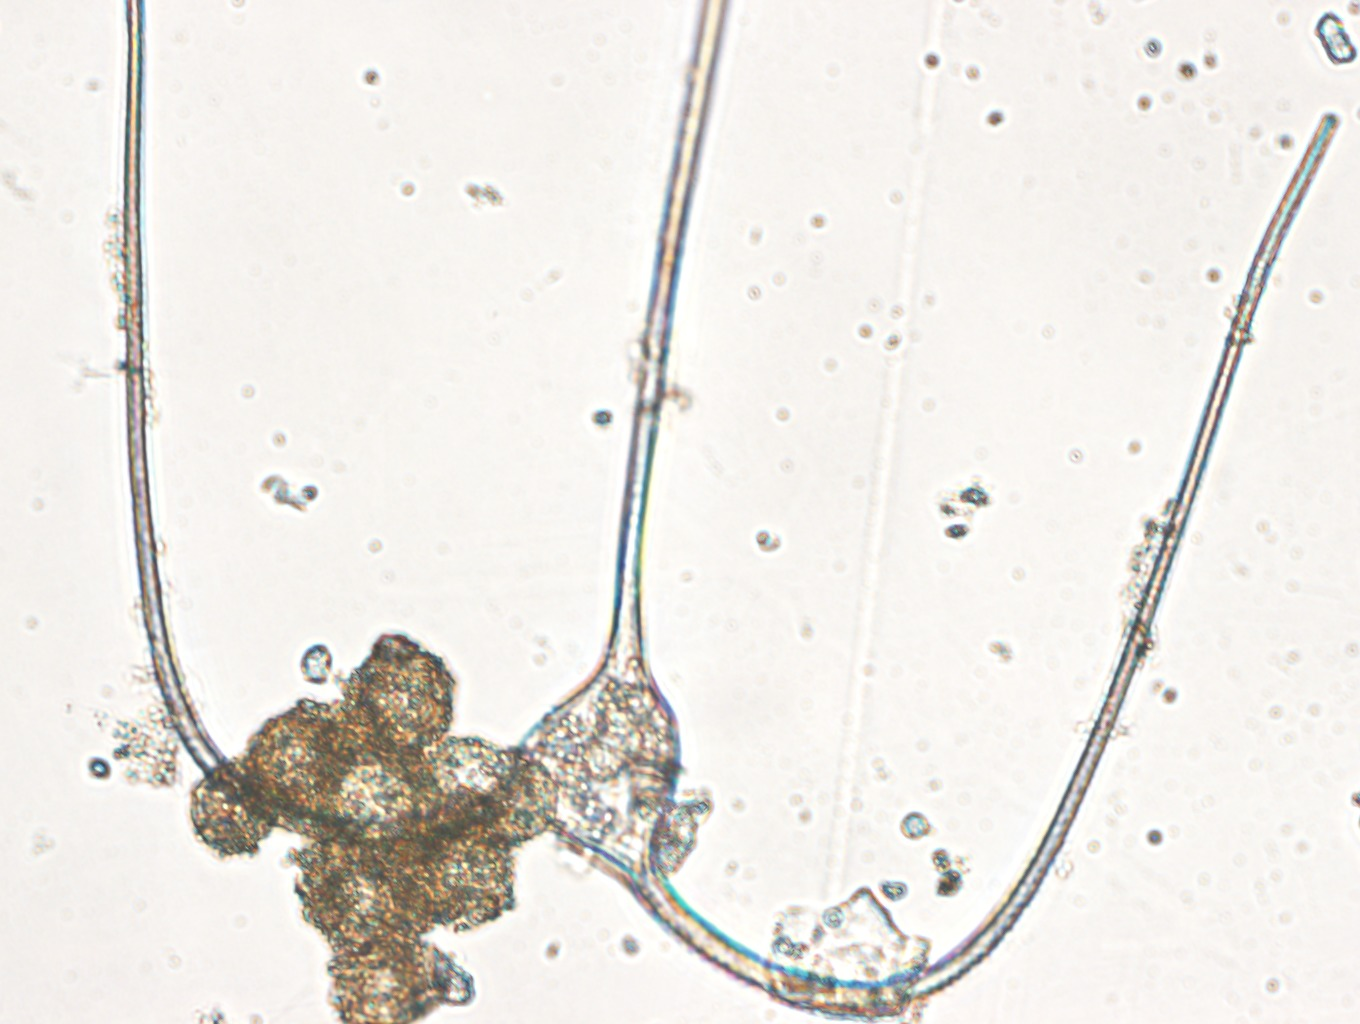ceratium trichoceros: (124, 1, 1341, 1014)
